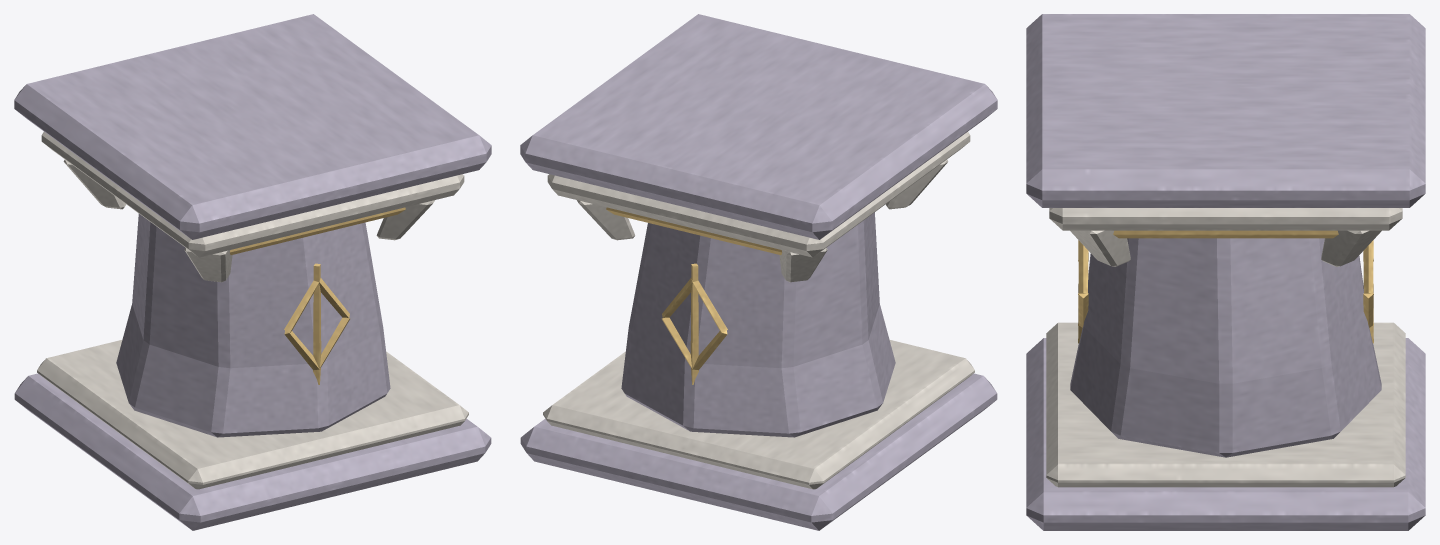
File: pillar.glb
The picture shows the model from 3 angles, left to right: view 1: azimuth 30°, elevation 25°; view 2: azimuth 150°, elevation 25°; view 3: azimuth 270°, elevation 25°; orthographic projection. The views are drawn at different scales.
Visible parts, largest first — view 1: HeavyAbacus, BatteredOctagonalShaft, ChamferedStep, BroadPlinth, SplayedCapital, NeckBand, CapitalBracket.003, CapitalBracket.001, FaceInlay4.001, CapitalBracket; view 2: HeavyAbacus, BatteredOctagonalShaft, ChamferedStep, BroadPlinth, SplayedCapital, NeckBand, CapitalBracket.002, CapitalBracket, FaceInlay4, CapitalBracket.001; view 3: HeavyAbacus, BatteredOctagonalShaft, ChamferedStep, BroadPlinth, SplayedCapital, NeckBand, CapitalBracket.002, CapitalBracket.003, FaceInlay2, FaceInlay2.001.
Boxes of the visible parts, x1,y1,x2,y2 form: HeavyAbacus: (14, 14, 491, 239); BatteredOctagonalShaft: (116, 213, 390, 437); ChamferedStep: (37, 340, 468, 489); BroadPlinth: (14, 373, 491, 530); SplayedCapital: (41, 132, 464, 257); NeckBand: (229, 207, 405, 254); CapitalBracket.003: (376, 200, 434, 240); CapitalBracket.001: (184, 248, 232, 282); FaceInlay4.001: (313, 263, 321, 384); CapitalBracket: (63, 159, 125, 209); HeavyAbacus: (520, 14, 997, 239); BatteredOctagonalShaft: (621, 212, 895, 437); ChamferedStep: (543, 340, 974, 489); BroadPlinth: (520, 373, 997, 530); SplayedCapital: (547, 132, 970, 257); NeckBand: (606, 207, 782, 254); CapitalBracket.002: (577, 200, 635, 240); CapitalBracket: (779, 248, 827, 282); FaceInlay4: (690, 263, 698, 384); CapitalBracket.001: (886, 159, 948, 209); HeavyAbacus: (1026, 14, 1425, 207); BatteredOctagonalShaft: (1070, 238, 1381, 457); ChamferedStep: (1046, 322, 1405, 487); BroadPlinth: (1026, 338, 1425, 530); SplayedCapital: (1049, 208, 1402, 230); NeckBand: (1113, 230, 1338, 238); CapitalBracket.002: (1321, 230, 1381, 266); CapitalBracket.003: (1070, 230, 1130, 266); FaceInlay2: (1363, 240, 1373, 293); FaceInlay2.001: (1078, 240, 1088, 293).
Bounding box in the file's own units: 3 × 3 × 3.
3 materials, 3 textured.
